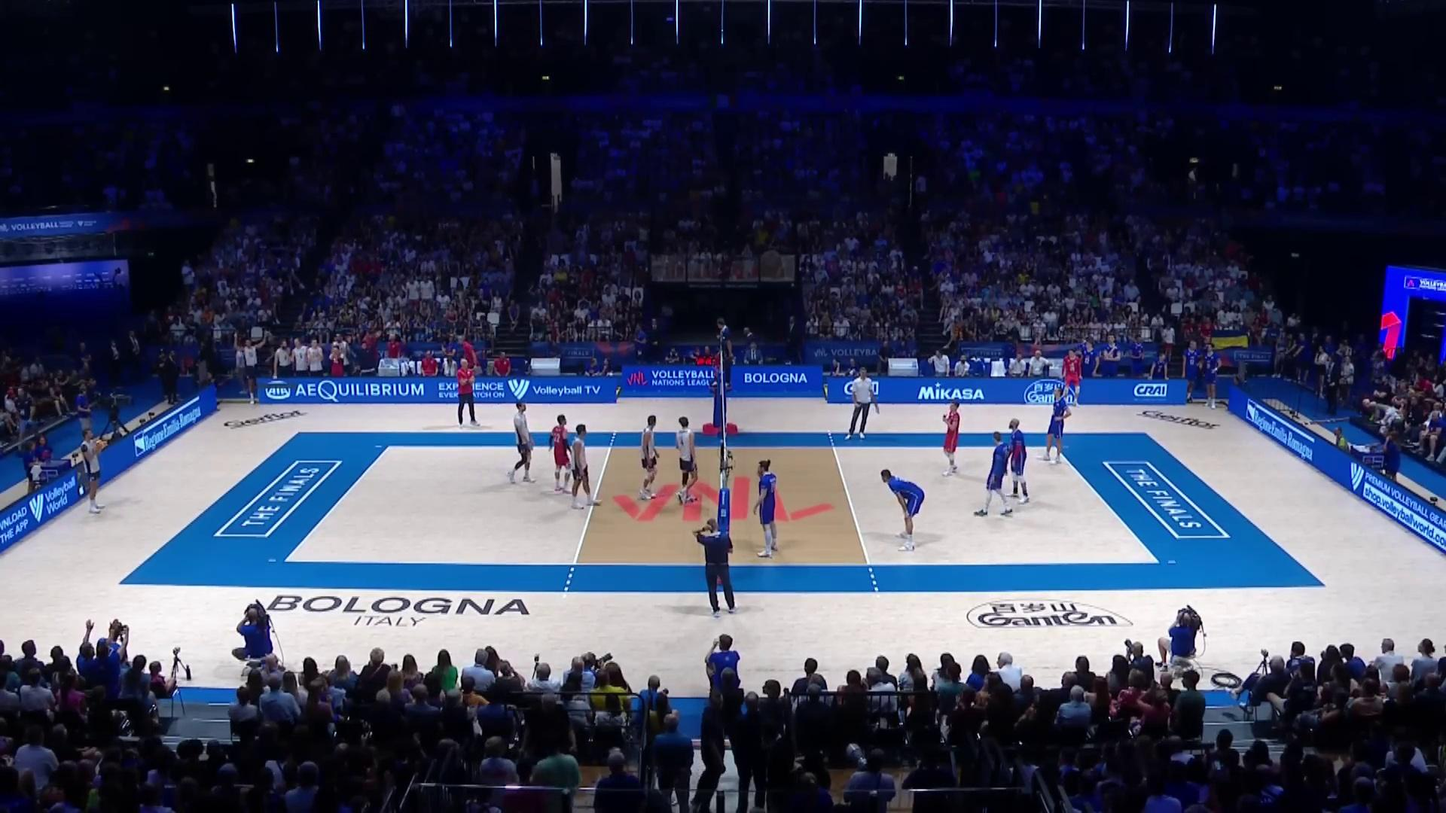player: (880, 470, 924, 551), (752, 459, 780, 559), (1002, 419, 1033, 504), (567, 421, 596, 508), (981, 432, 1011, 516), (83, 428, 109, 512), (674, 418, 699, 503), (510, 403, 535, 484), (1043, 387, 1069, 463), (549, 414, 572, 493), (941, 397, 962, 474), (641, 416, 659, 500)
refree: (695, 515, 736, 616), (712, 318, 733, 384)
